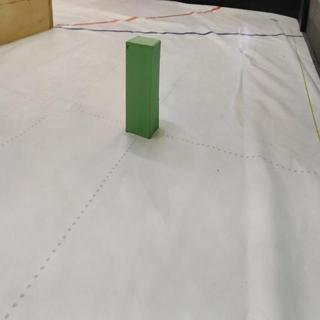greenbox: (123, 34, 162, 138)
